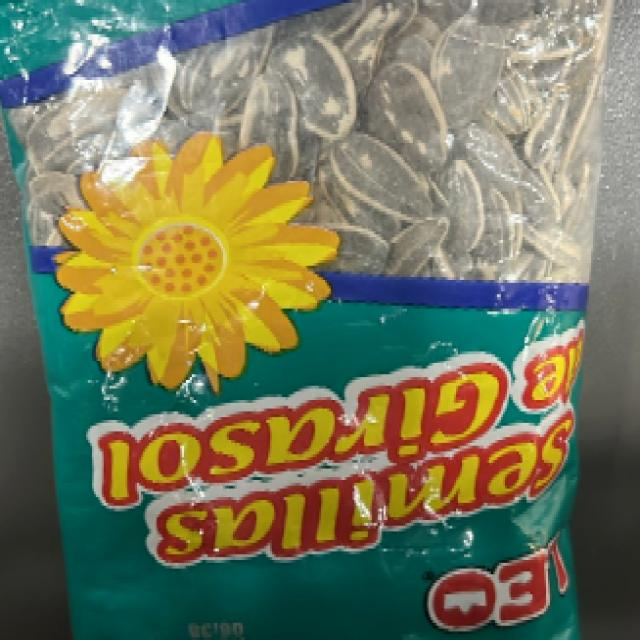productoAtras: (40, 19, 574, 639)
